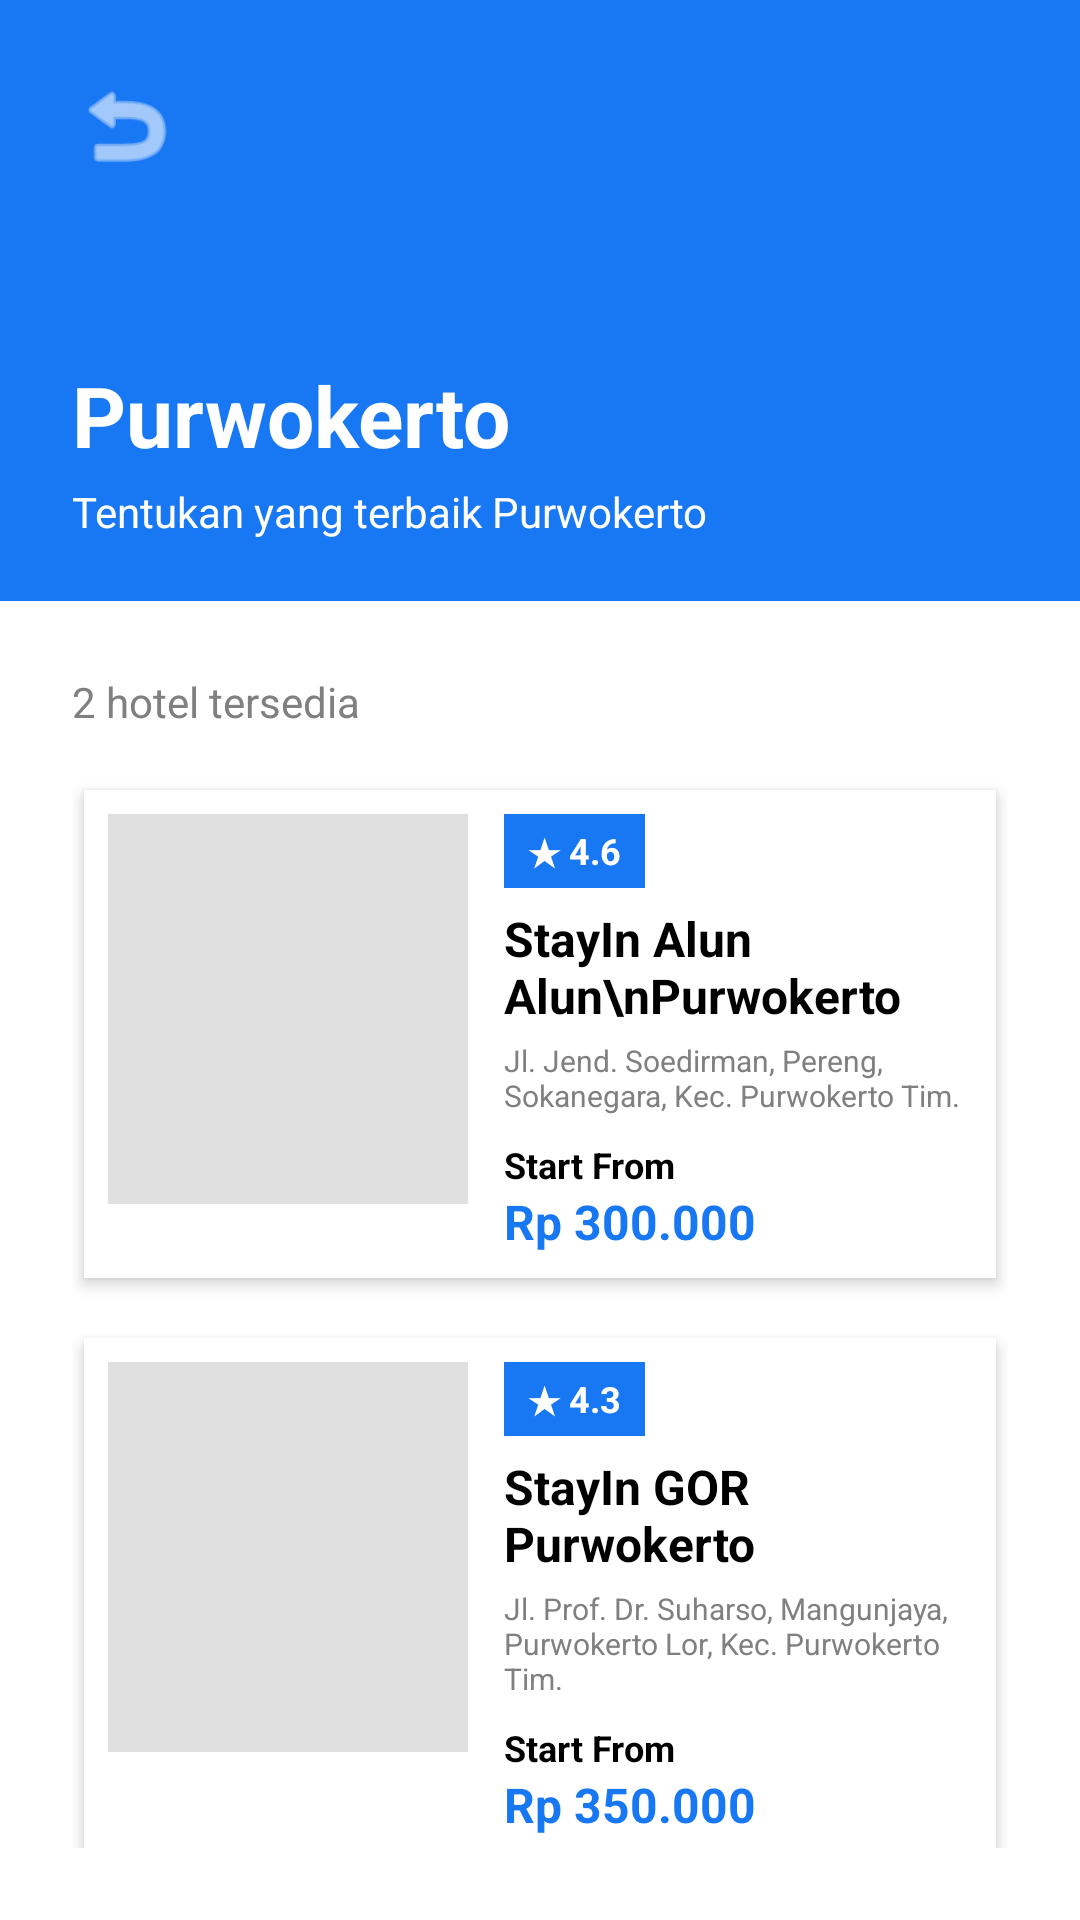

Icon click points for this 1080px x 1920px phone screenshot, format [x,y]:
revert: [127,127]
